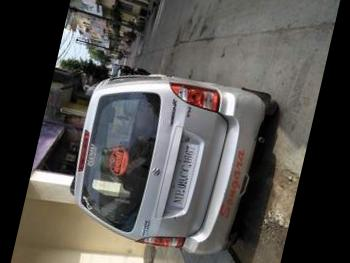plate: (163, 129, 213, 221)
